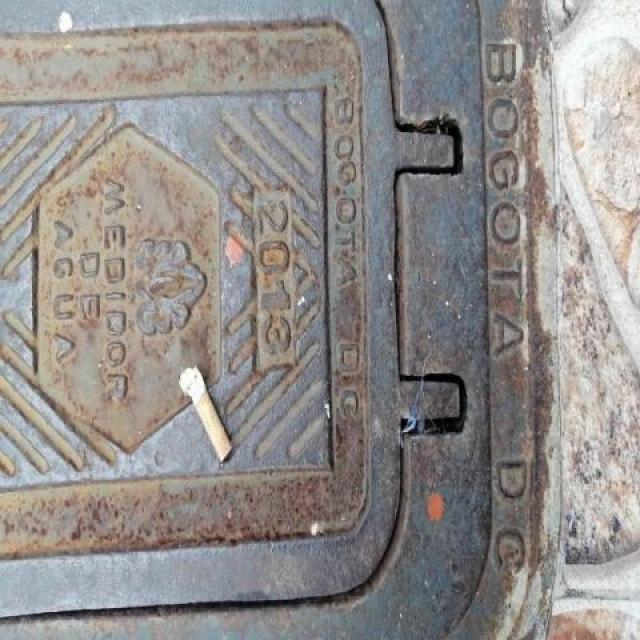non-organic waste: (176, 362, 236, 467)
